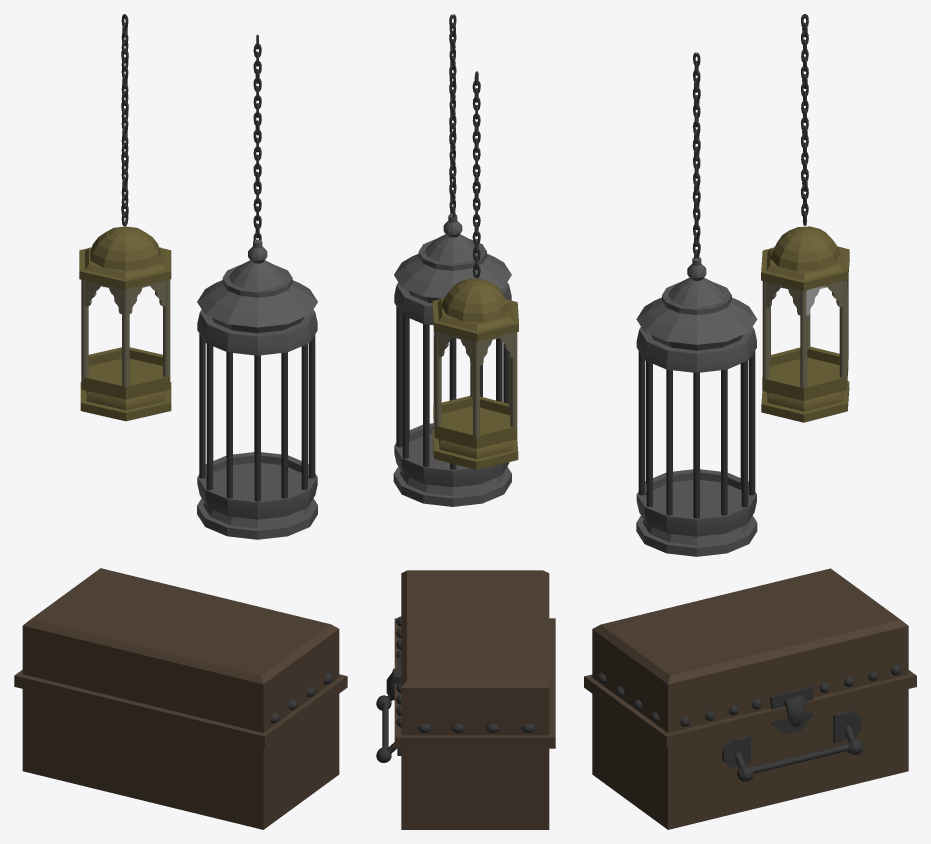
Rendered from decors_1.fbx.
3 views of the same model, side by side, from view 1: azimuth 30°, elevation 25°; view 2: azimuth 150°, elevation 25°; view 3: azimuth 270°, elevation 25° (orthographic). The views are drawn at different scales.
Visible parts, largest first — view 1: pSphere20; view 2: pSphere20; view 3: pSphere20.
Part boxes in pixels (x1,y1,x2,y2): pSphere20: (14, 14, 347, 829); pSphere20: (376, 14, 555, 829); pSphere20: (584, 14, 916, 829).
Size of the model in its own units: 7.56 by 21.6 by 8.75.
